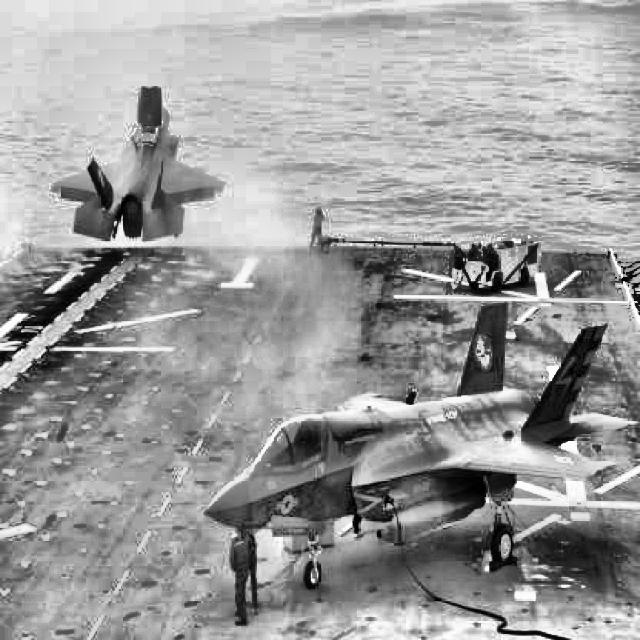F35: (203, 301, 639, 590), (51, 87, 224, 242)
